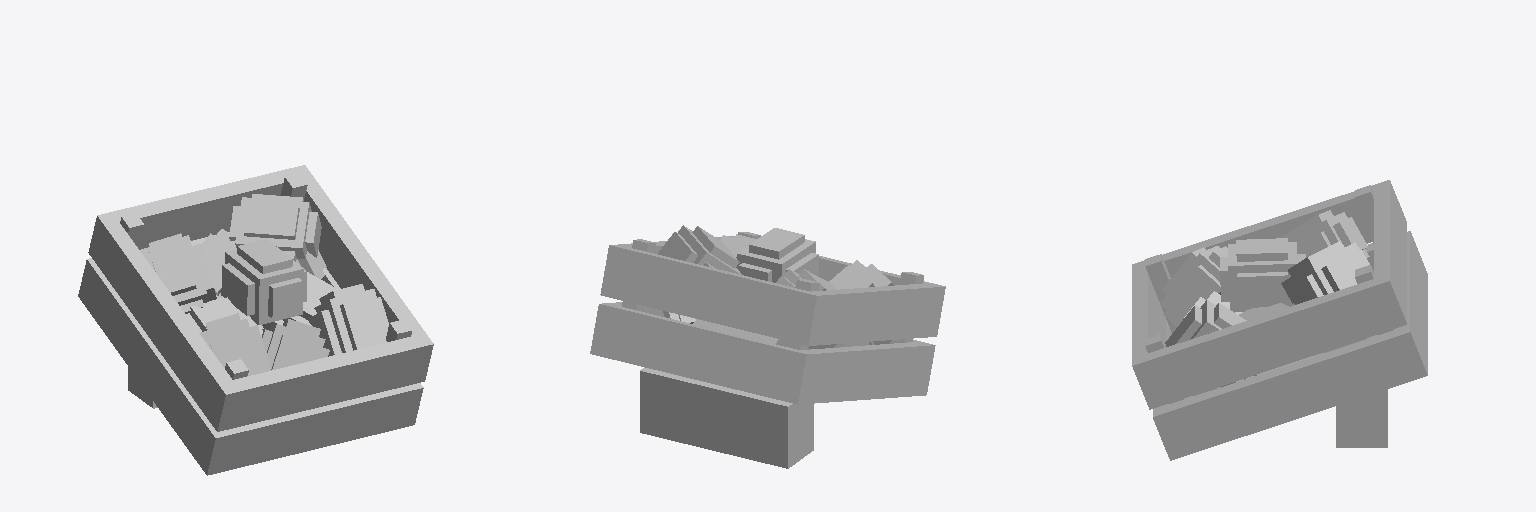
Rendered from 1755_potatoe_crate.obj.
3 renders of one model, left to right at view 1: azimuth 30°, elevation 25°; view 2: azimuth 150°, elevation 25°; view 3: azimuth 270°, elevation 25°, orthographic.
Parts seen in each view (by area): view 1: Side3, Front1, Side4, Potato8, Front2, Potato7, Side1, Back1, Potato11, Potato10, Potato9, Potato12 (+6 smaller); view 2: Block, Back2, Back1, Side3, Side4, Potato7, Potato8, Potato12, Side2, Side1, Potato9, Front1 (+1 smaller); view 3: Side1, Side2, Potato9, Potato7, Side3, Potato8, Back1, Block, Front1, Back2, Potato12, Potato10 (+2 smaller).
Boxes of the visible parts, x1,y1,x2,y2 form: Side3: [88, 212, 240, 431]; Front1: [232, 337, 418, 428]; Side4: [78, 258, 229, 475]; Potato8: [149, 202, 386, 375]; Front2: [222, 387, 408, 471]; Potato7: [140, 197, 386, 374]; Side1: [290, 165, 433, 384]; Back1: [112, 168, 294, 249]; Potato11: [221, 250, 341, 356]; Potato10: [180, 212, 321, 318]; Potato9: [192, 194, 388, 371]; Potato12: [149, 206, 364, 329]; Block: [640, 367, 813, 468]; Back2: [605, 307, 796, 400]; Back1: [615, 248, 809, 341]; Side3: [793, 283, 945, 345]; Side4: [783, 342, 935, 404]; Potato7: [678, 225, 884, 348]; Potato8: [692, 226, 893, 290]; Potato12: [704, 239, 874, 289]; Side2: [590, 302, 663, 357]; Side1: [600, 236, 734, 298]; Potato9: [658, 232, 848, 283]; Front1: [819, 256, 928, 285]; Side1: [1132, 274, 1406, 409]; Side2: [1153, 325, 1427, 460]; Potato9: [1168, 231, 1367, 391]; Potato7: [1160, 212, 1369, 393]; Side3: [1132, 180, 1406, 277]; Potato8: [1162, 210, 1344, 346]; Back1: [1374, 187, 1406, 314]; Block: [1336, 389, 1387, 447]; Front1: [1132, 267, 1165, 358]; Back2: [1394, 238, 1427, 366]; Potato12: [1209, 217, 1369, 328]; Potato10: [1163, 257, 1323, 395].
Size of the model in its own units: 0.875 by 1.25 by 1.08.